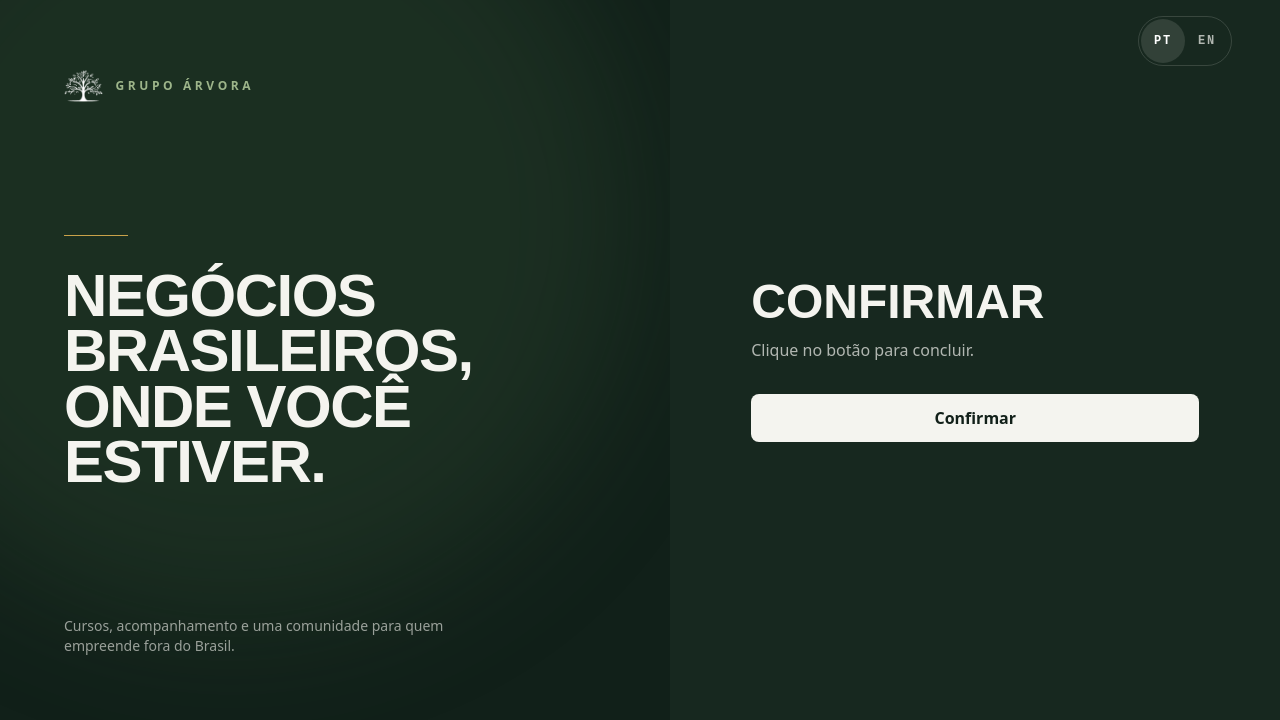
tela Confirmar › erro do verifyOtp aparece na tela e não navega
Click the button "Confirmar": (975, 418) [751,394,1199,442]
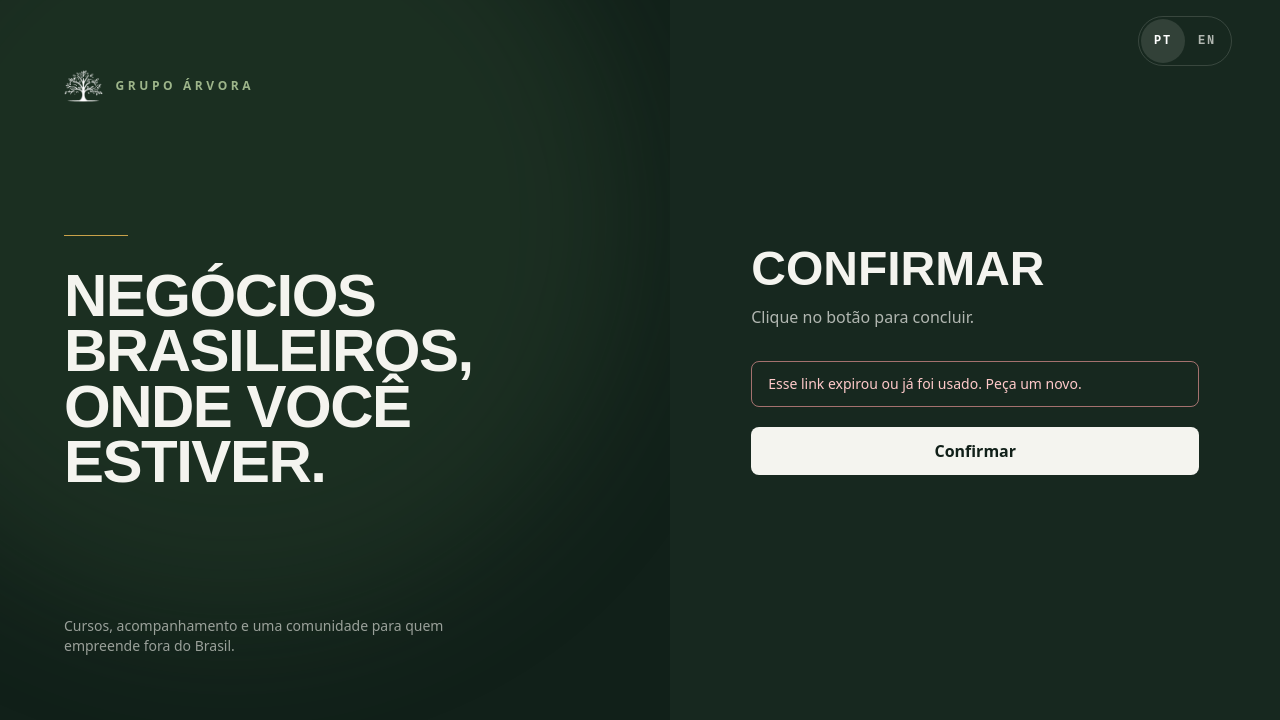
Result: the message shows "expirou" at [768,374,1082,393]
